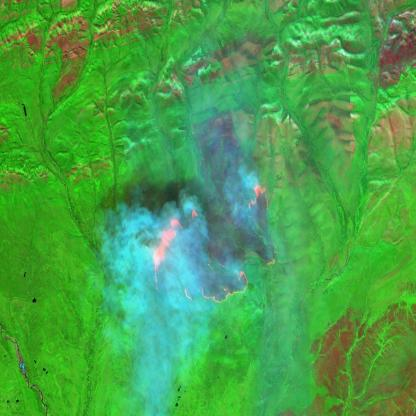fire: (148, 180, 280, 312)
